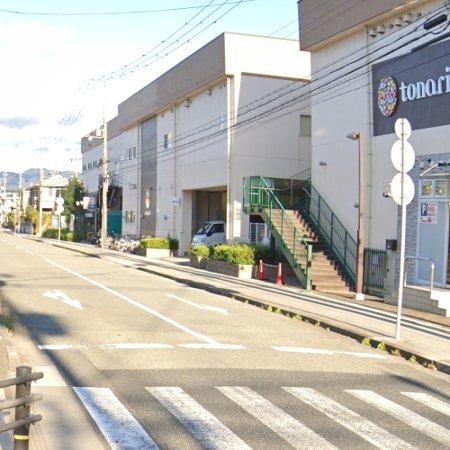stairs: (245, 177, 350, 293)
